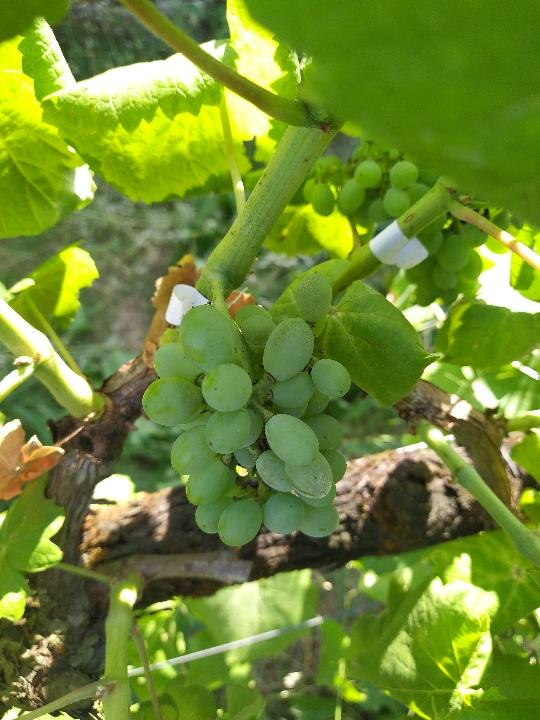grape: (135, 268, 359, 550)
